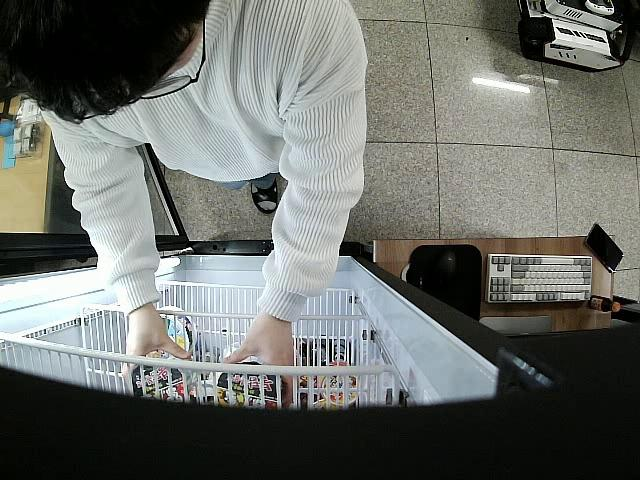00_hand: (222, 317, 295, 405), (120, 313, 192, 381)
08_buldak_S: (217, 363, 289, 410), (133, 366, 183, 403)
